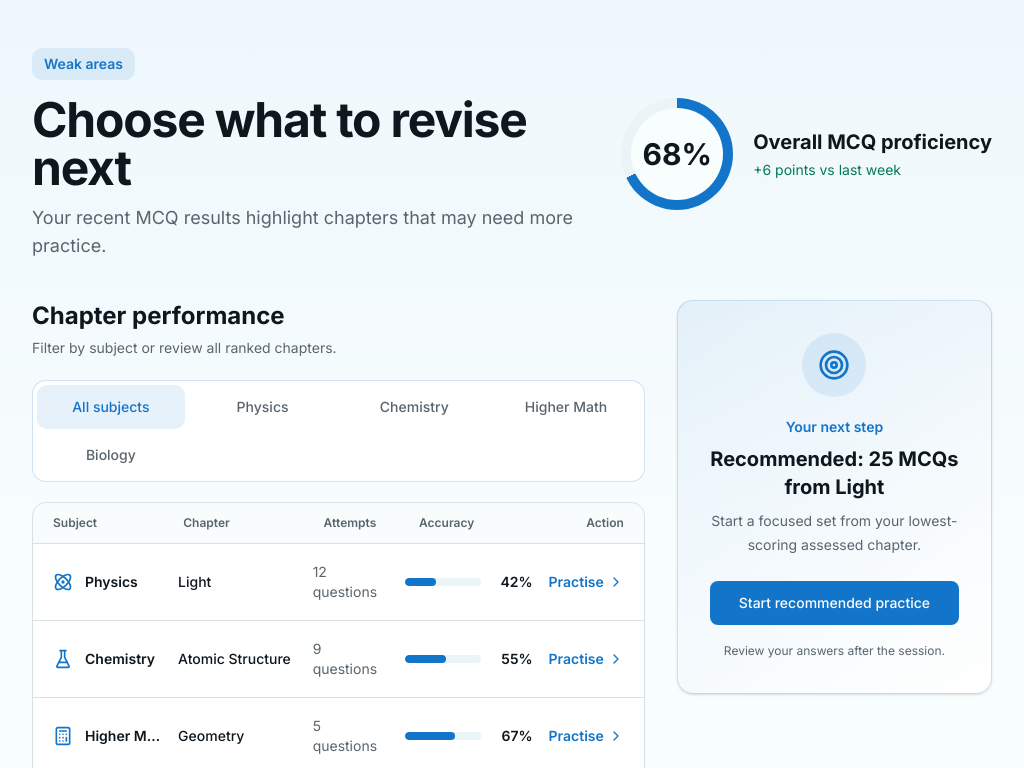
Scenario: WeakAreasContent › restores the recommendation action and reports generation failure
Click the button "Start recommended practice" at [834, 603], box x1=710 y1=581 x2=959 y2=625
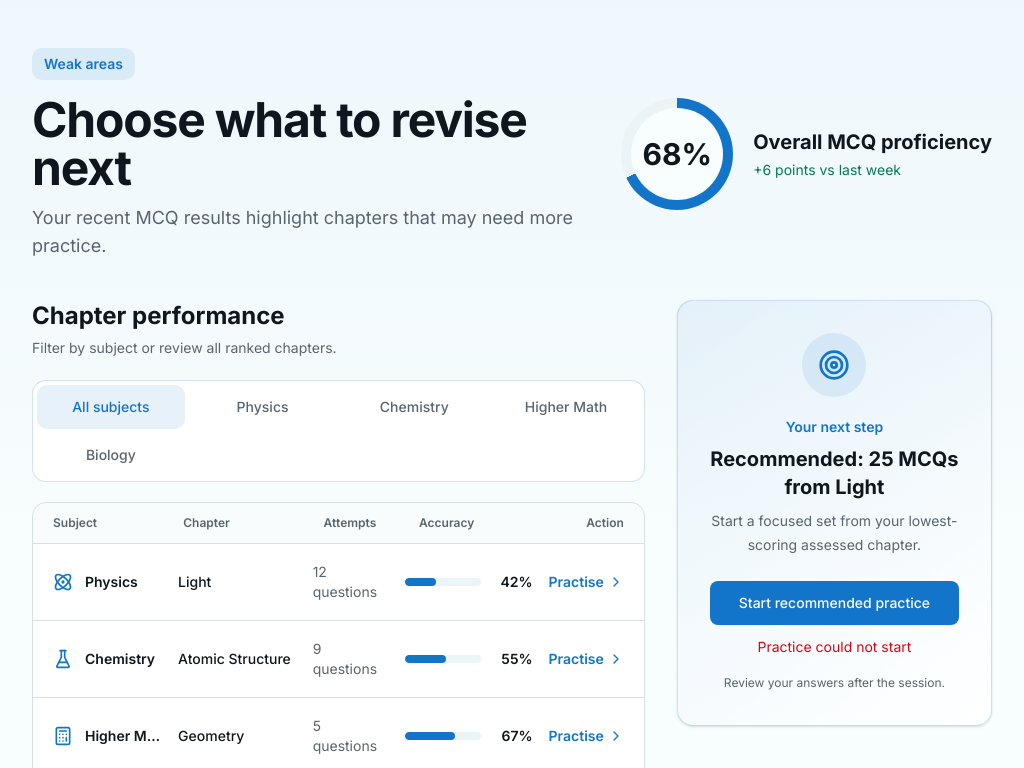
Result: the message reads "Practice could not start" at x1=758 y1=638 x2=911 y2=655
